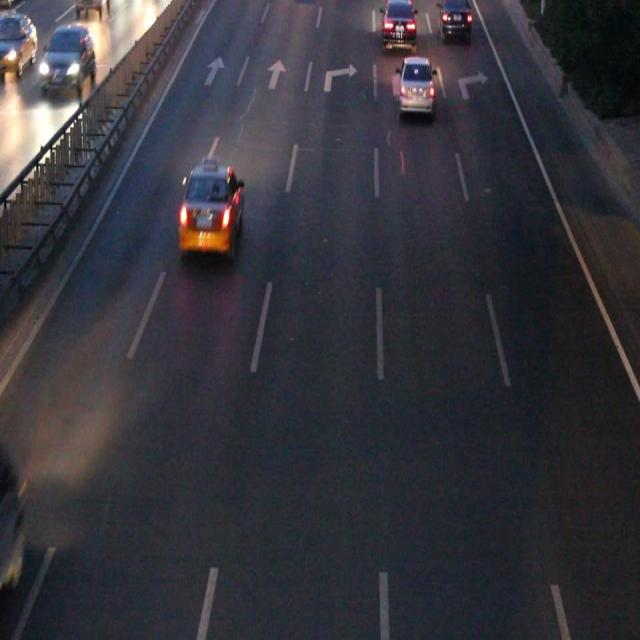car: (179, 167, 242, 250), (398, 56, 431, 113), (380, 2, 414, 48), (440, 1, 470, 39)
